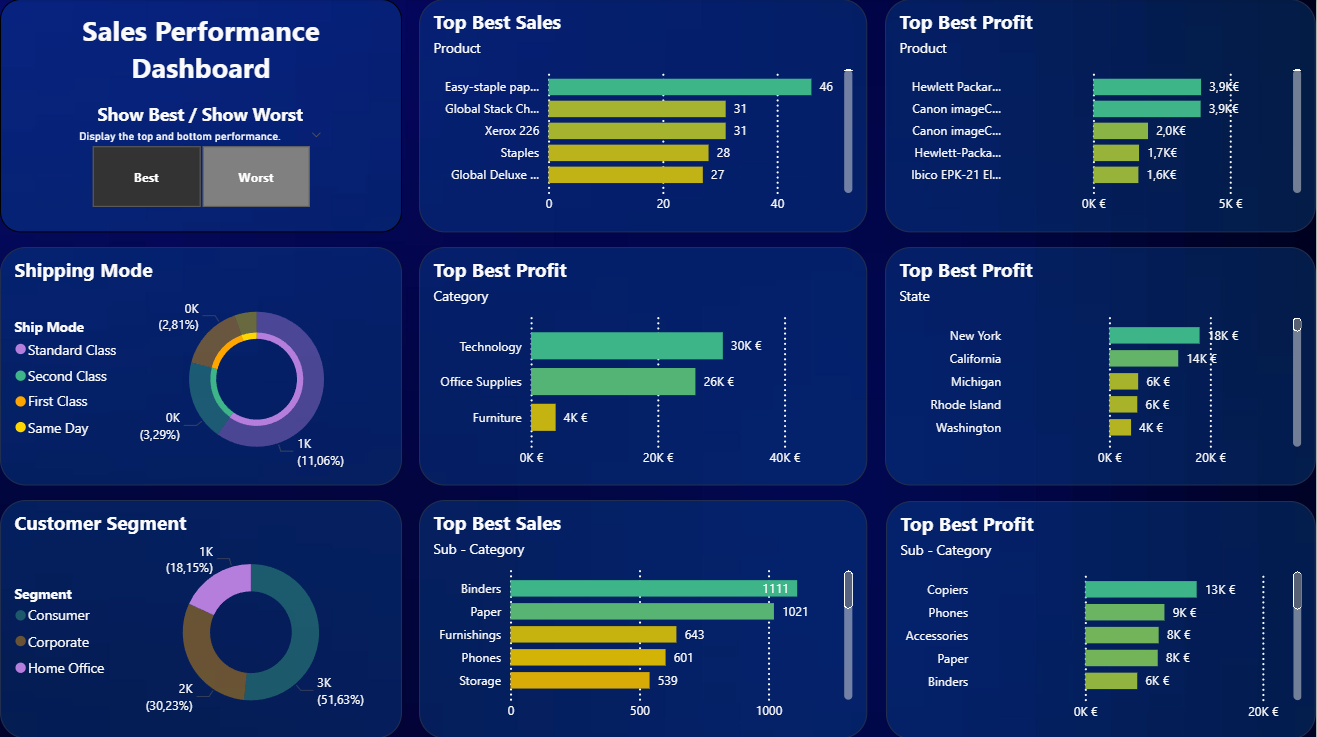

The dashboard page shown, as its layout file describes it:
{"tool":"powerbi","page":{"name":"Performance","canvas":[1280,720],"ordinal":2},"visuals":[{"type":"barChart","fields":{"Category":["Product.Product Name"],"Y":["Mesure.Quantity"]},"box":[407.8,0,435.6,226.7],"z":0},{"type":"textbox","title":"Retail Performance Dashboard","box":[0,0,391.1,226.7],"z":1000},{"type":"barChart","fields":{"Y":["Mesure.Profit"],"Category":["Product.Product Name"]},"box":[861.1,0,418.9,226.7],"z":2000},{"type":"slicer","title":"Show Best / Show Worst","fields":{"Values":["sortTable.sort"]},"box":[64.4,98.9,261.1,110],"z":3000},{"type":"barChart","fields":{"Y":["Mesure.Quantity"],"Category":["Product.Sub-Category"]},"box":[407.8,487.8,435.6,232.2],"z":4000},{"type":"barChart","fields":{"Y":["Mesure.Profit"],"Category":["Product.Sub-Category"]},"box":[861.7,488.3,418.3,231.7],"z":6000},{"type":"barChart","fields":{"Y":["Mesure.Profit"],"Category":["Product.Category"]},"box":[407.8,241.1,435.6,232.2],"z":7000},{"type":"barChart","fields":{"Y":["Mesure.Profit"],"Category":["City.State"]},"box":[861.1,241.1,418.9,232.2],"z":8000},{"type":"donutChart","title":"Customer Segment","fields":{"Category":["Segment.Segment"],"Y":["Mesure.NumberOrder"]},"box":[0,487.8,391.1,232.2],"z":9000},{"type":"donutChart","title":"Shipping Mode","fields":{"Category":["Ship.Ship Mode"],"Y":["Mesure.NumberOrder"]},"box":[0,241.1,391.1,232.2],"z":10000}]}

Visuals, with their boxes in screenshot pixels (x1, y1, x2, y2), scaled from the page's 1280x720 canvas onto the 1317x737 screenshot:
barChart - Product.Product Name x Mesure.Quantity: pyautogui.locateOnScreen(420, 0, 868, 232)
"Retail Performance Dashboard" textbox: pyautogui.locateOnScreen(0, 0, 402, 232)
barChart - Mesure.Profit x Product.Product Name: pyautogui.locateOnScreen(886, 0, 1316, 232)
"Show Best / Show Worst" slicer: pyautogui.locateOnScreen(66, 101, 335, 214)
barChart - Mesure.Quantity x Product.Sub-Category: pyautogui.locateOnScreen(420, 499, 868, 736)
barChart - Mesure.Profit x Product.Sub-Category: pyautogui.locateOnScreen(887, 500, 1316, 736)
barChart - Mesure.Profit x Product.Category: pyautogui.locateOnScreen(420, 247, 868, 484)
barChart - Mesure.Profit x City.State: pyautogui.locateOnScreen(886, 247, 1316, 484)
"Customer Segment" donutChart: pyautogui.locateOnScreen(0, 499, 402, 736)
"Shipping Mode" donutChart: pyautogui.locateOnScreen(0, 247, 402, 484)
